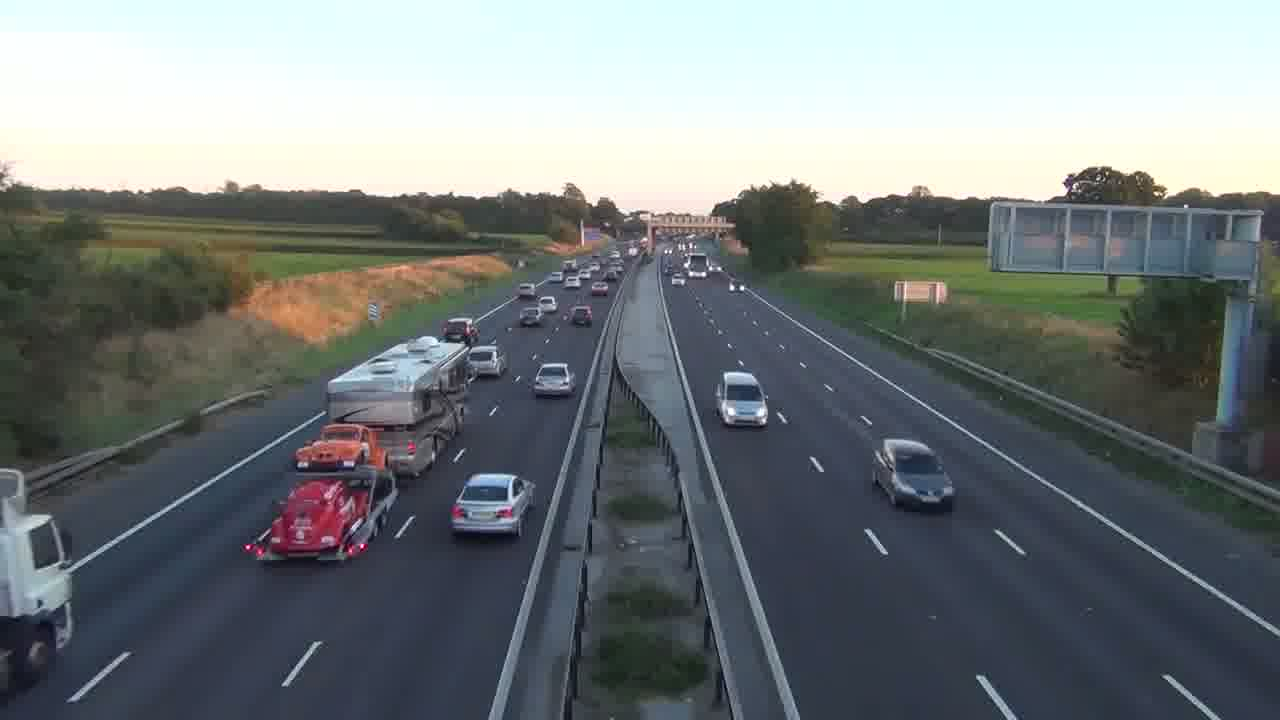car: (872, 437, 956, 511), (449, 472, 536, 539), (531, 361, 577, 398), (465, 345, 507, 380), (567, 304, 593, 327)
truck: (242, 462, 398, 564), (0, 468, 78, 660)
